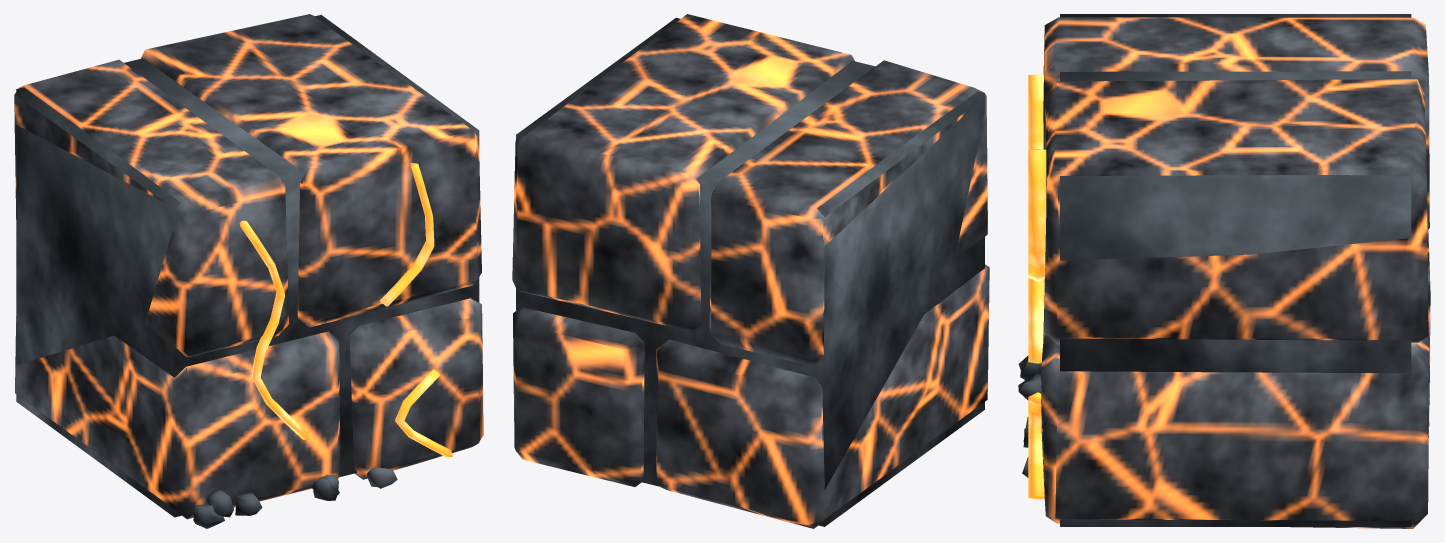
File: CrackedBlock.fbx
3 renders of one model, left to right at view 1: azimuth 30°, elevation 25°; view 2: azimuth 150°, elevation 25°; view 3: azimuth 270°, elevation 25°, orthographic. The views are drawn at different scales.
Parts seen in each view (by area): view 1: CrackedBlock; view 2: CrackedBlock; view 3: CrackedBlock.
Boxes of the visible parts, box(x1,y1,x2,y2) form: CrackedBlock: box(14, 14, 483, 528); CrackedBlock: box(512, 14, 989, 528); CrackedBlock: box(1018, 14, 1430, 528).
Size of the model in its own units: 0.9923 by 0.9979 by 1.03.
